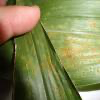Corn rust leaf: (41, 3, 99, 92), (15, 37, 84, 99)
